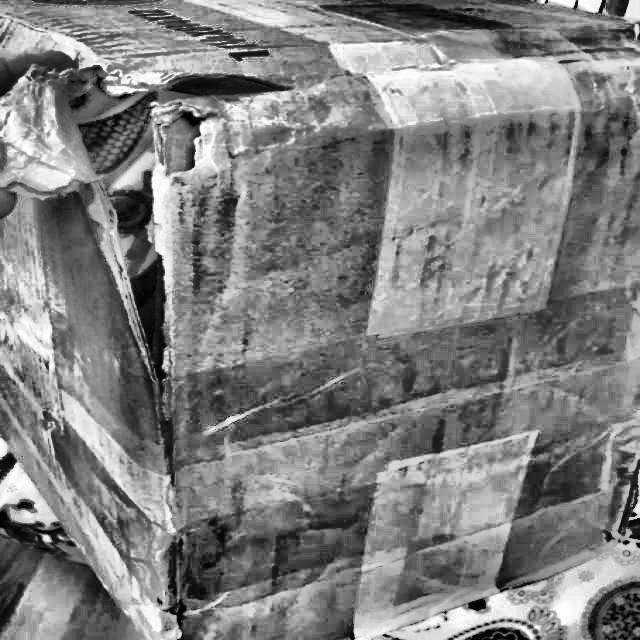box: (0, 0, 639, 639)
hole: (34, 61, 292, 387)
